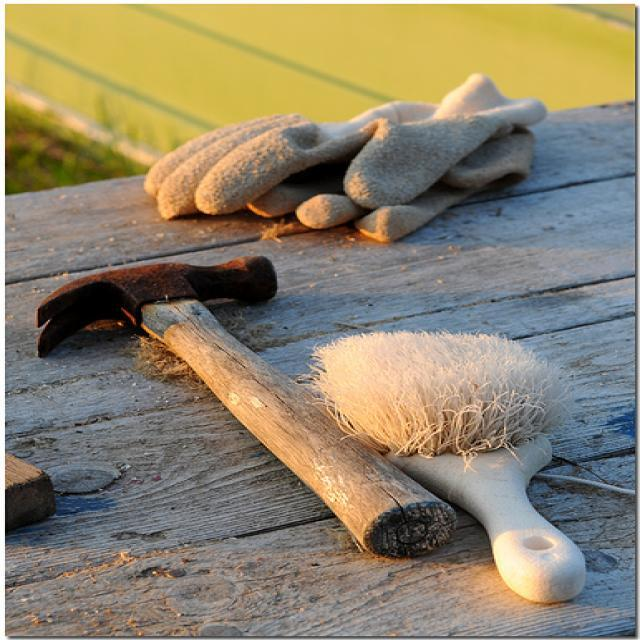hammer: (26, 250, 452, 566)
